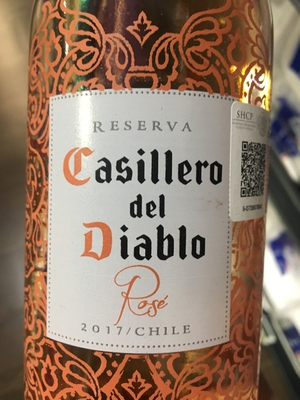casillero del diablo rose: (18, 6, 279, 400)
